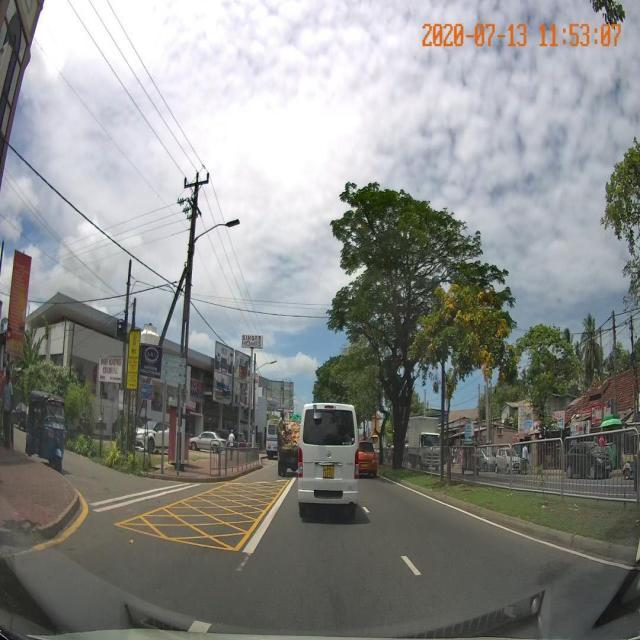Jeltaya razmetka: (108, 479, 294, 556)
Liniya 1: (376, 474, 629, 571), (244, 477, 297, 557), (92, 484, 202, 513), (89, 483, 191, 507), (400, 556, 422, 576), (362, 505, 371, 514)
